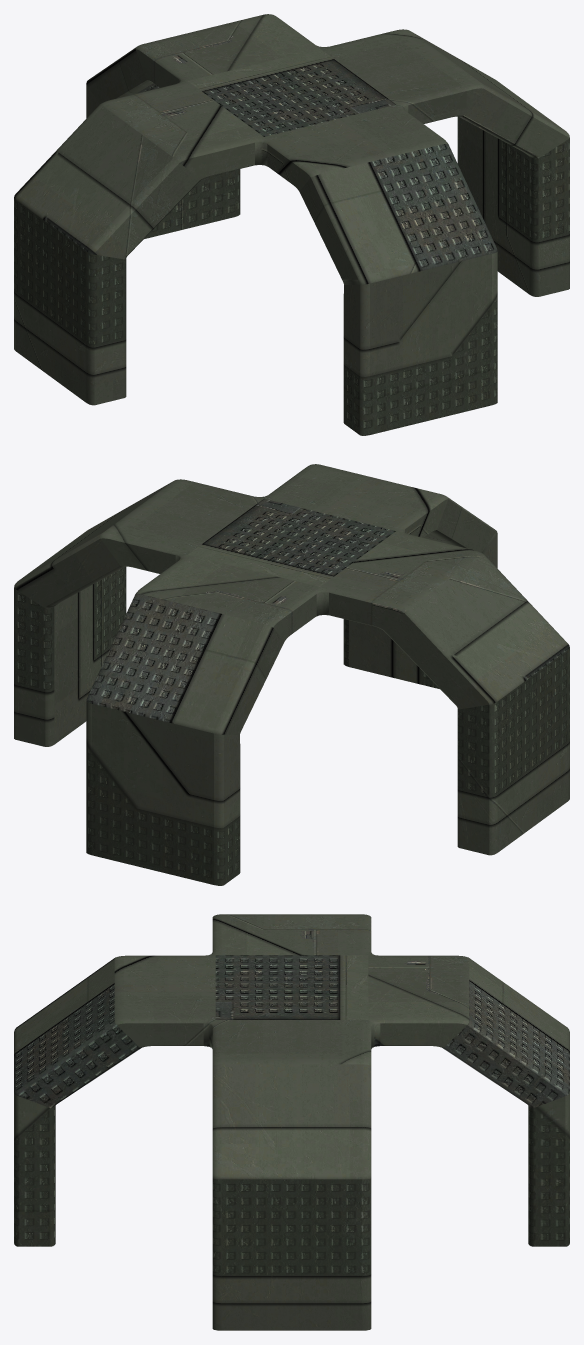
Rendered from ThingBest_Max.obj.
3 renders of one model, top to bottom at view 1: azimuth 30°, elevation 25°; view 2: azimuth 150°, elevation 25°; view 3: azimuth 270°, elevation 25°, orthographic.
Visible parts, largest first — view 1: cross_clean; view 2: cross_clean; view 3: cross_clean.
Boxes of the visible parts, x1,y1,x2,y2 form: cross_clean: (14,14,569,435); cross_clean: (14,464,569,885); cross_clean: (14,914,569,1330).
Bounding box in the file's own units: 2688 × 1203 × 2688.
